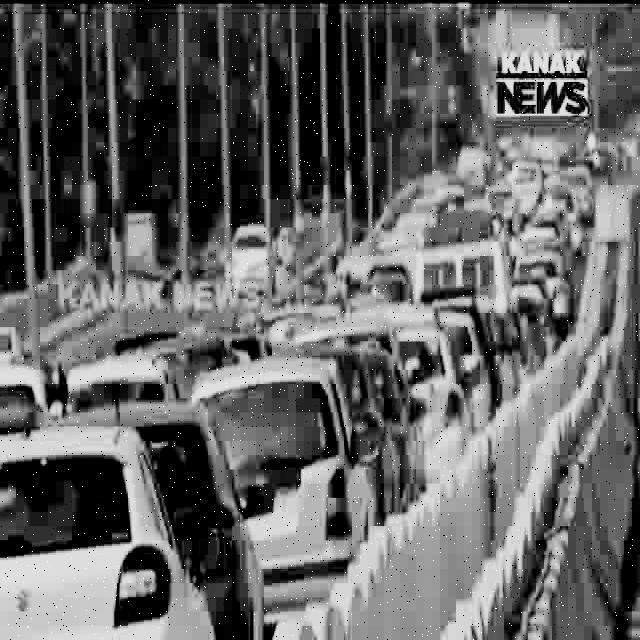Ambulance: (416, 205, 496, 296)
